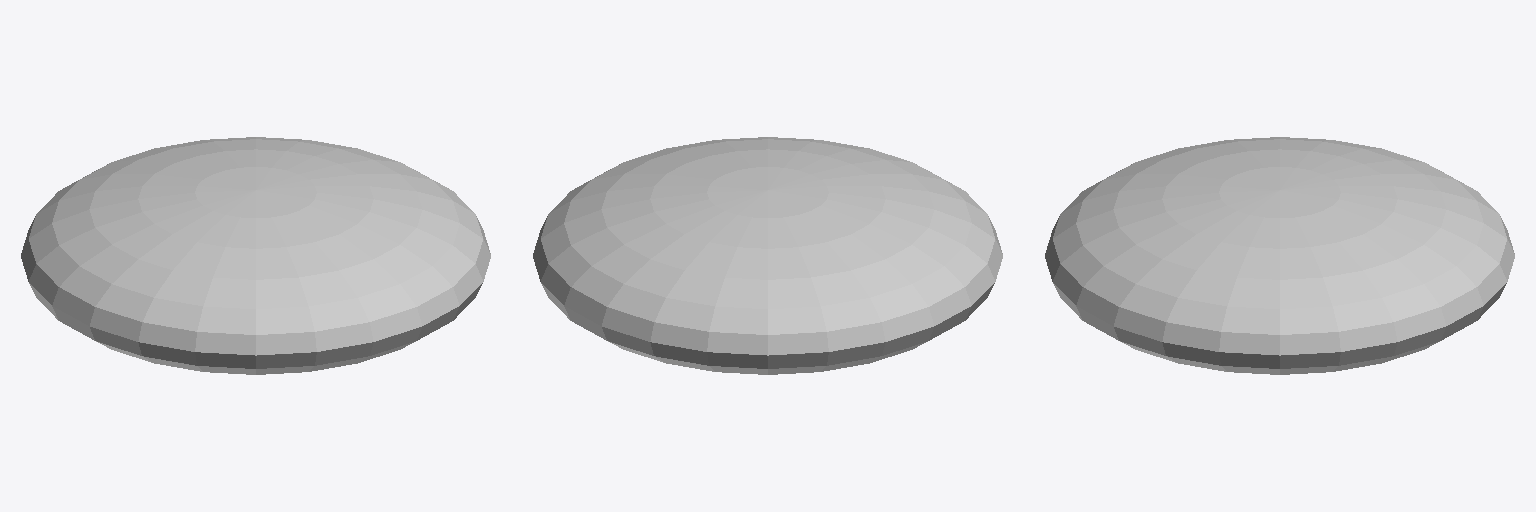
Rendered from ball.obj.
The picture shows the model from 3 angles: view 1: azimuth 30°, elevation 25°; view 2: azimuth 150°, elevation 25°; view 3: azimuth 270°, elevation 25°; orthographic projection.
Parts seen in each view (by area): view 1: Sphere_0; view 2: Sphere_0; view 3: Sphere_0.
Boxes of the visible parts, x1,y1,x2,y2 form: Sphere_0: [21, 137, 490, 374]; Sphere_0: [533, 137, 1002, 374]; Sphere_0: [1045, 137, 1514, 374].
Bounding box in the file's own units: 4 × 1.23 × 4.